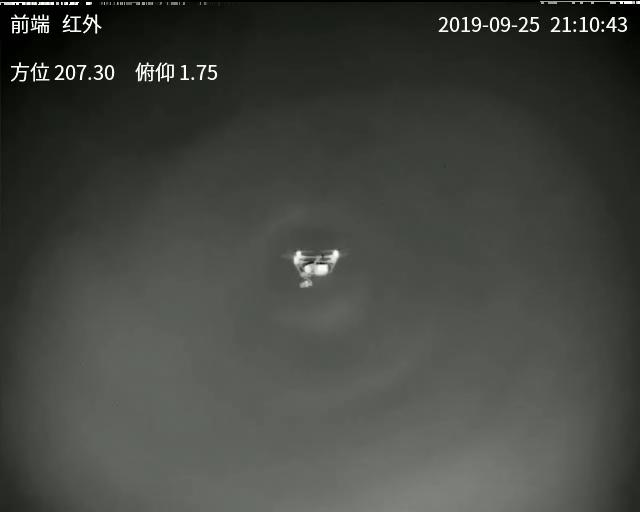uav: (283, 245, 339, 293)
